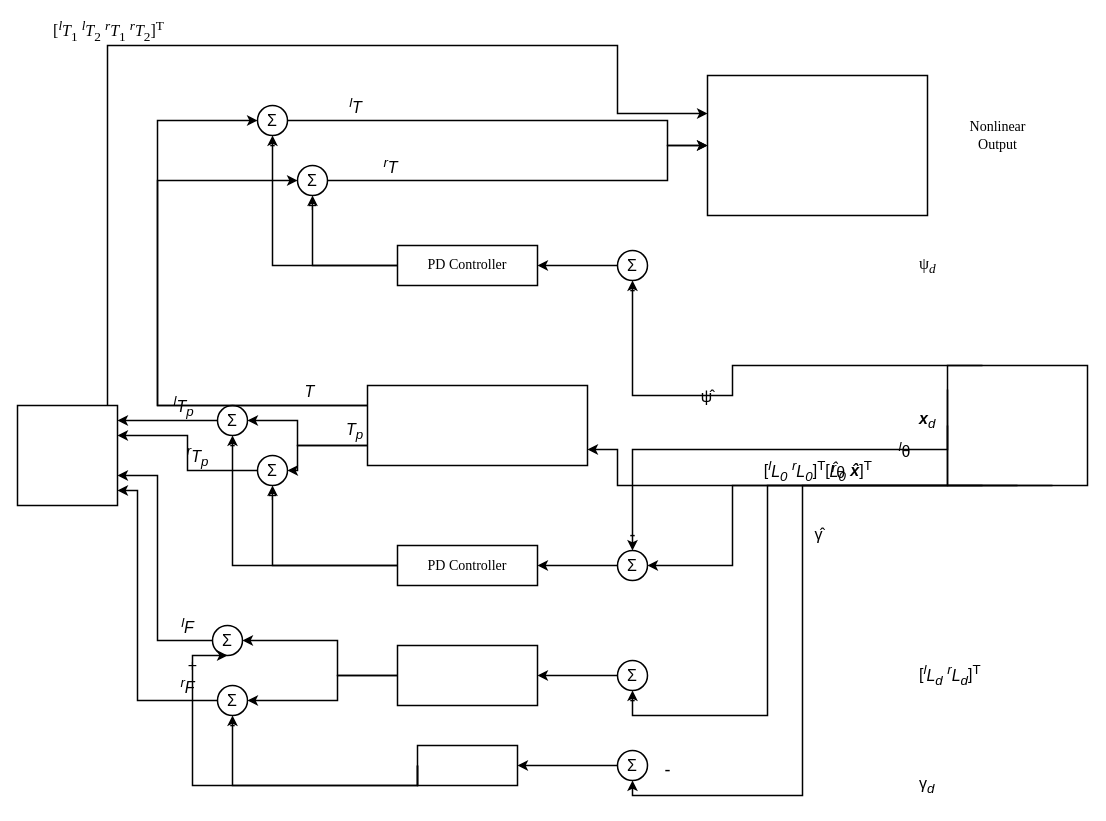
Image size: 1106x821. Some labels were removed from this diagram. The centre of each missing label's shape, as x and y in pixels:
"Estimator" goes at point 1017,425.
"K γ" goes at point 467,765.
"PID Controller & Feed Forward" goes at point 467,675.
"u = K ( L 0 )( x d - x̂ )" goes at point 477,425.
"Virtual Model Control" goes at point 67,455.
"Wheel-Legged Inverted Pendulum Robot" goes at point 817,145.
